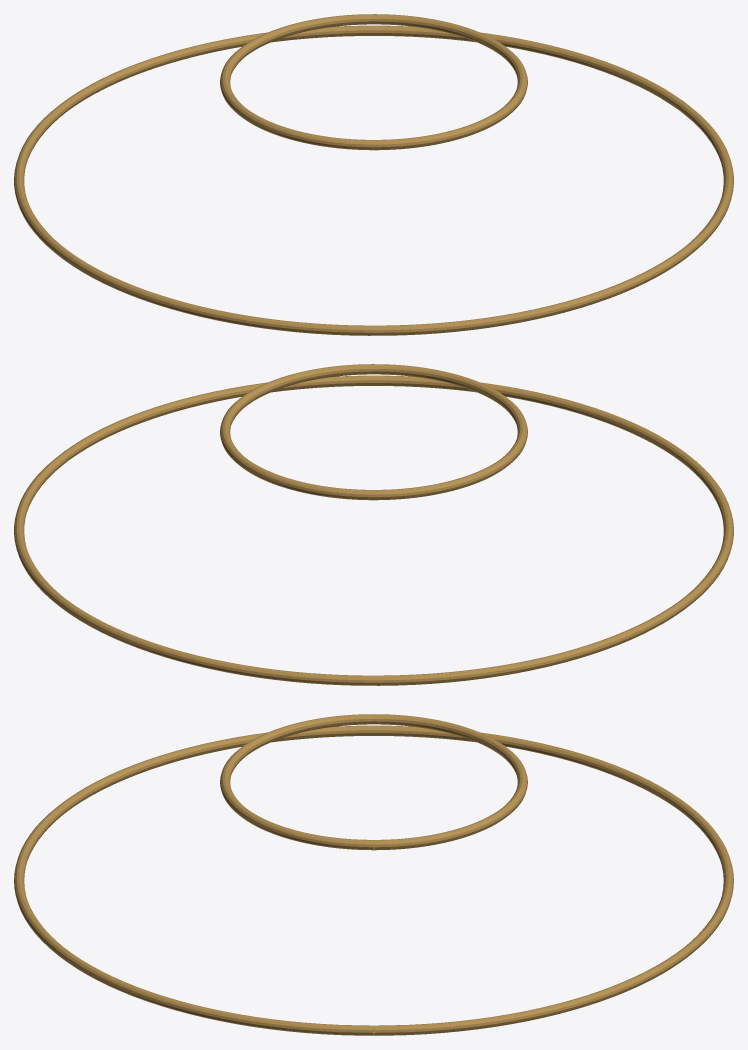
File: canopy--bronze.glb
3 views of the same model, one above another, from view 1: azimuth 30°, elevation 25°; view 2: azimuth 150°, elevation 25°; view 3: azimuth 270°, elevation 25° (orthographic).
Visible parts, largest first — view 1: canopy; view 2: canopy; view 3: canopy.
Part boxes in pixels (box(x1,y1,x2,y2)): canopy: box(14, 14, 733, 335); canopy: box(14, 364, 733, 685); canopy: box(14, 714, 733, 1035).
Size of the model in its own units: 5.66 by 0.936 by 5.66.
